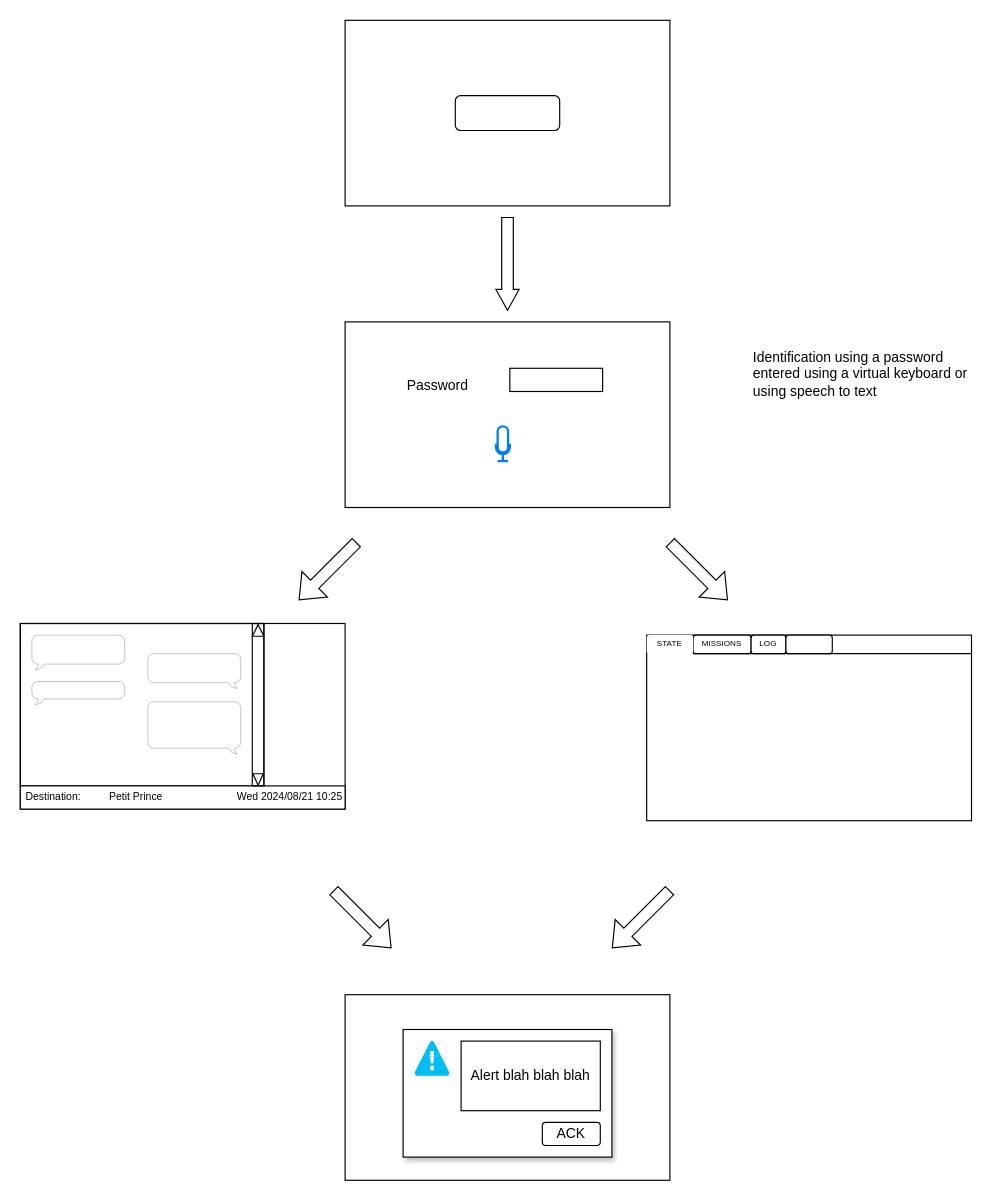
The diagram is 993 pixels wide and 1201 high, and some of its shapes have lost their labels. The shapes that lost their labels are listed below. From the top down, each one's centre as x and y in pixels, then its label:
point 507,112: CONNECT
point 808,644: CONFIG
